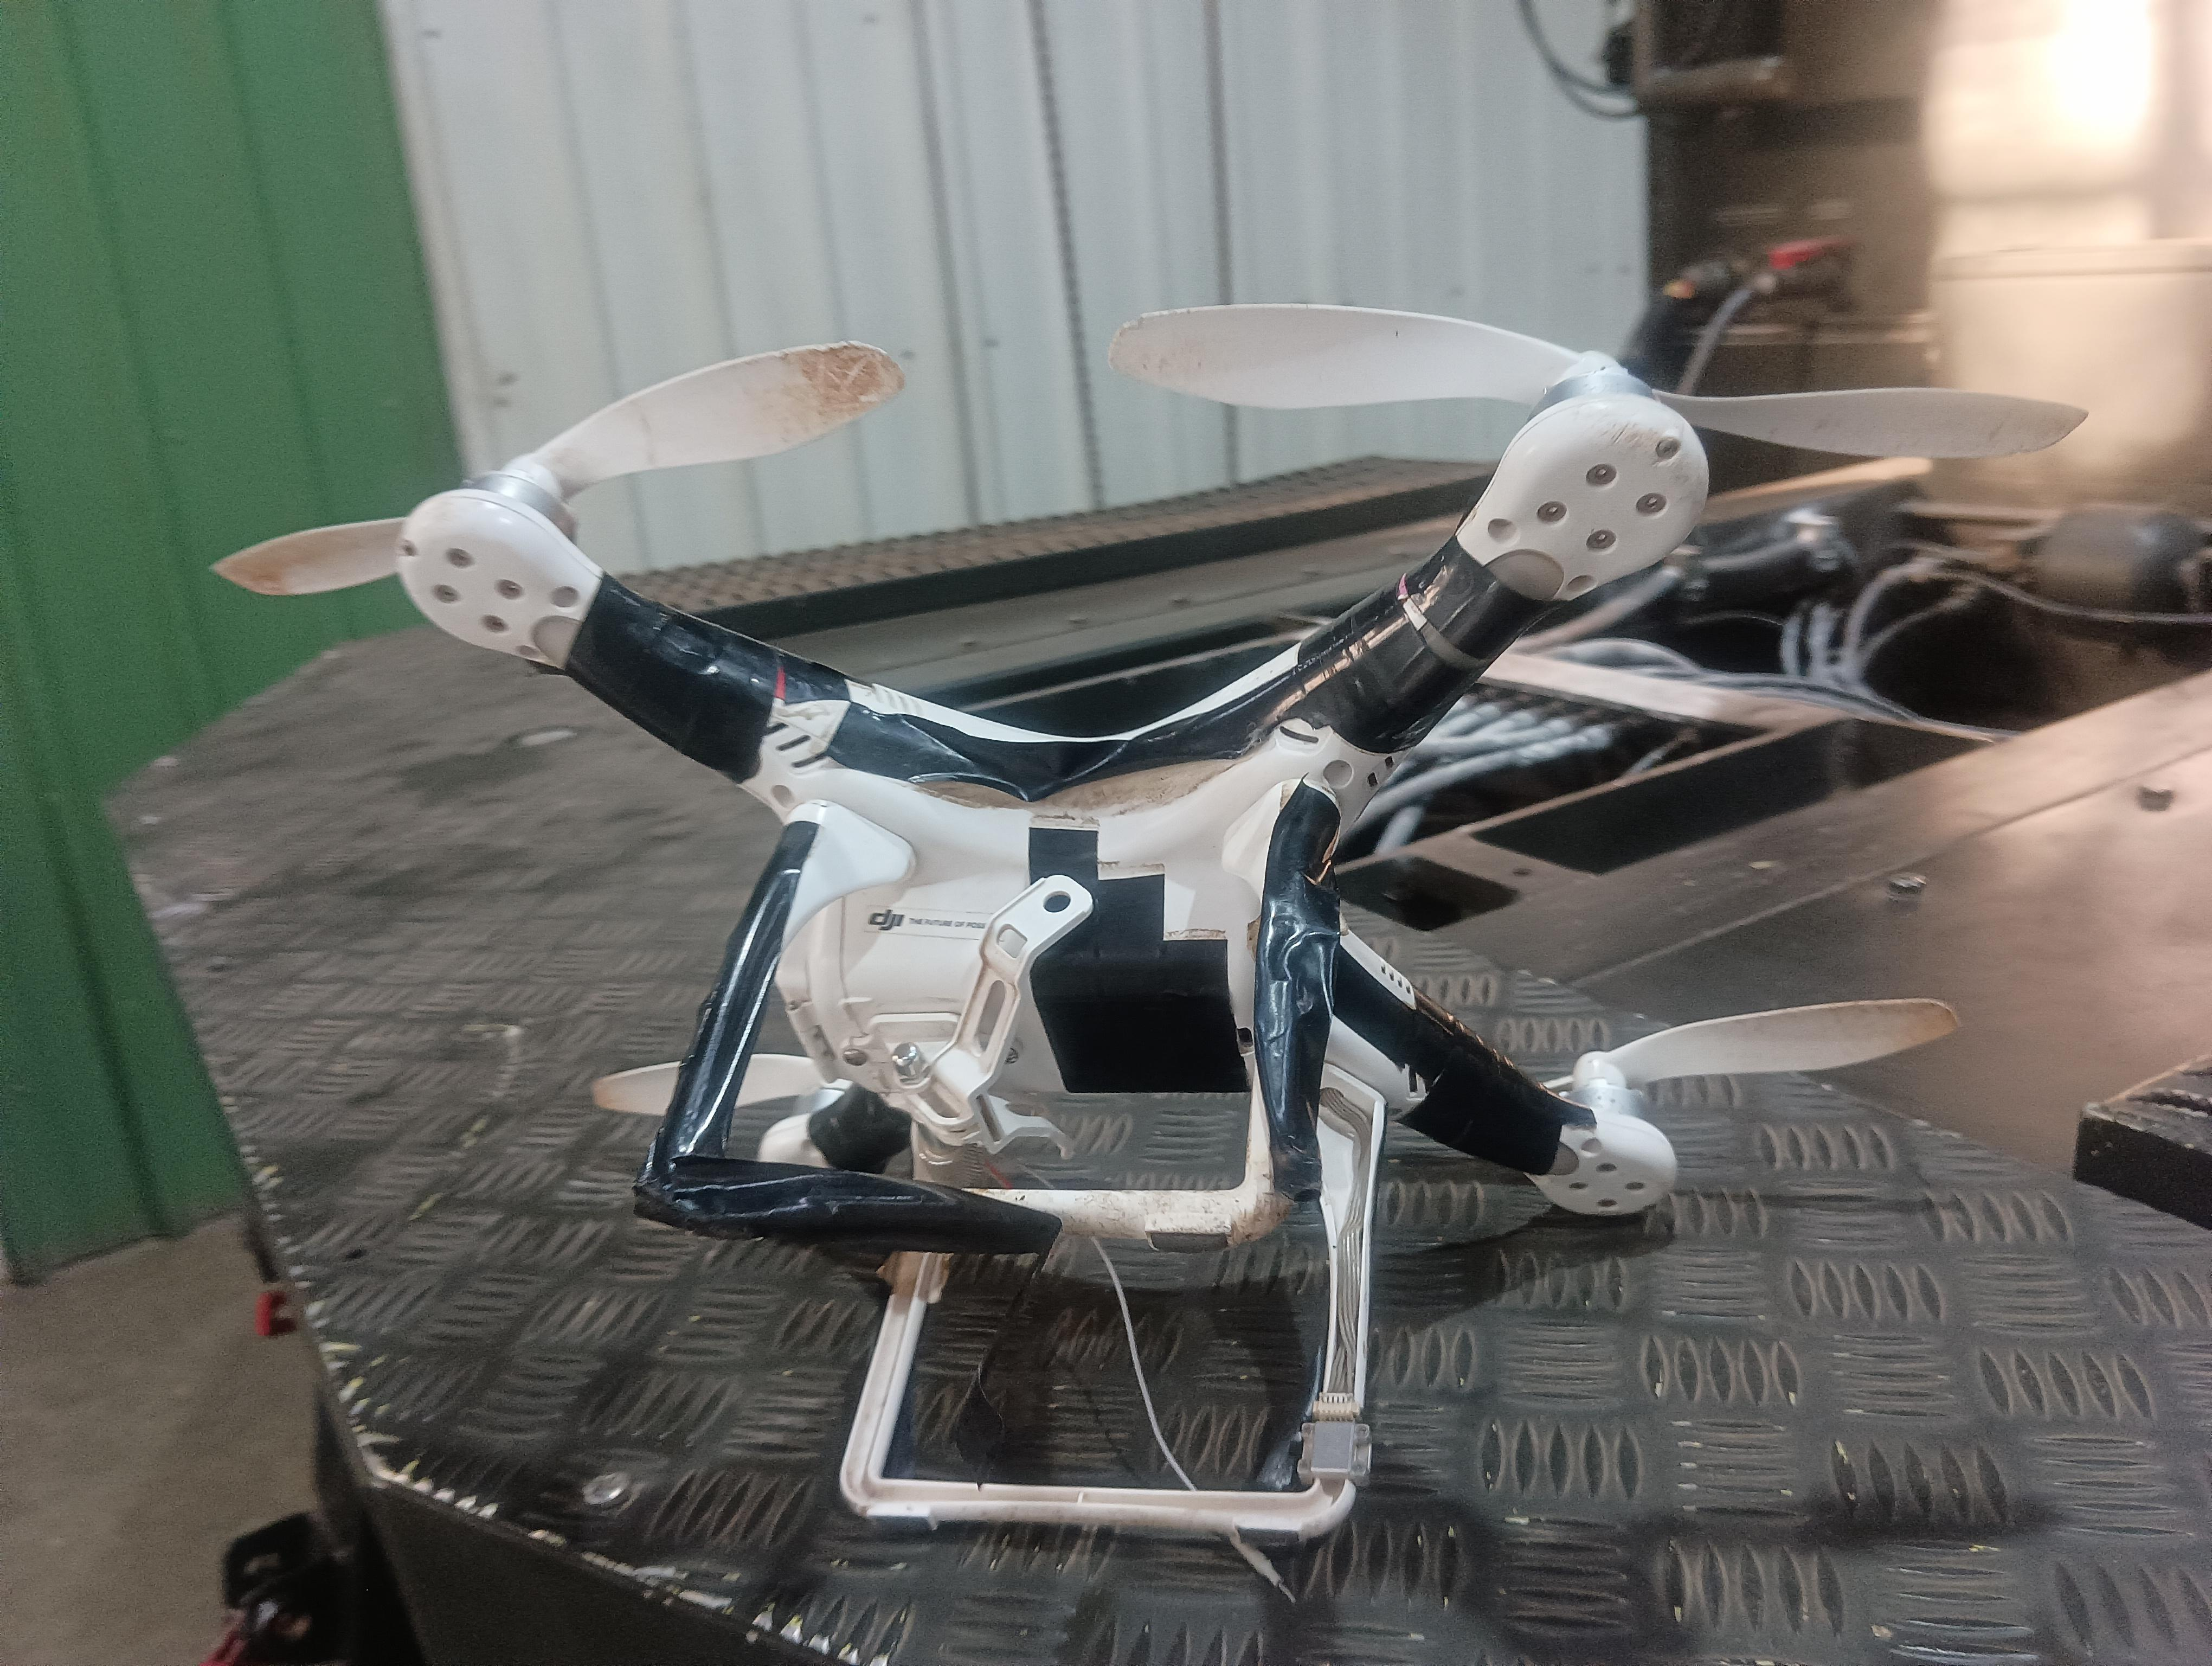drone: (207, 245, 2132, 1575)
